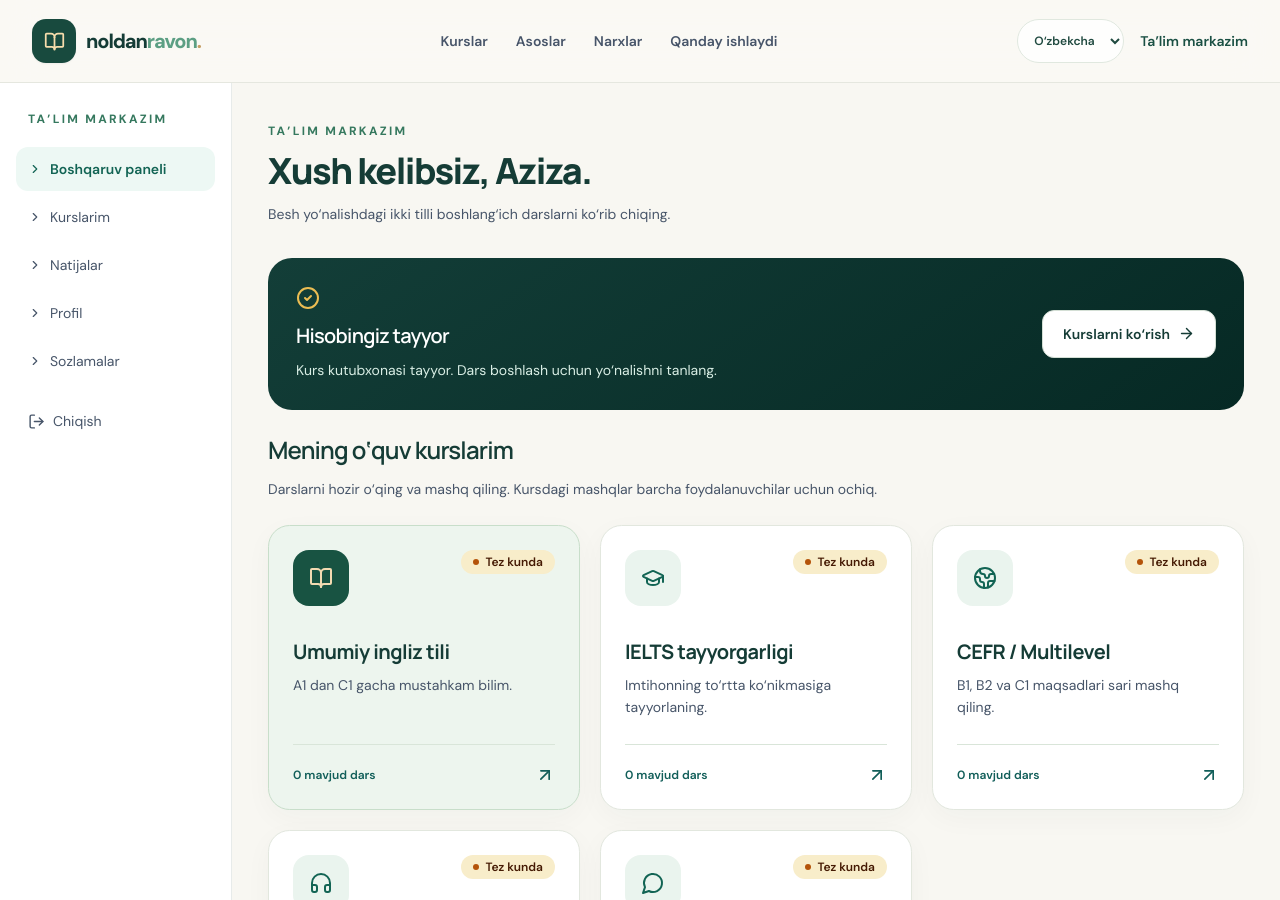
it: shows an explicit warning after browser-only sign out when MongoDB revocation fails
Click the button "Chiqish" at (65, 421), box [16, 399, 114, 443]
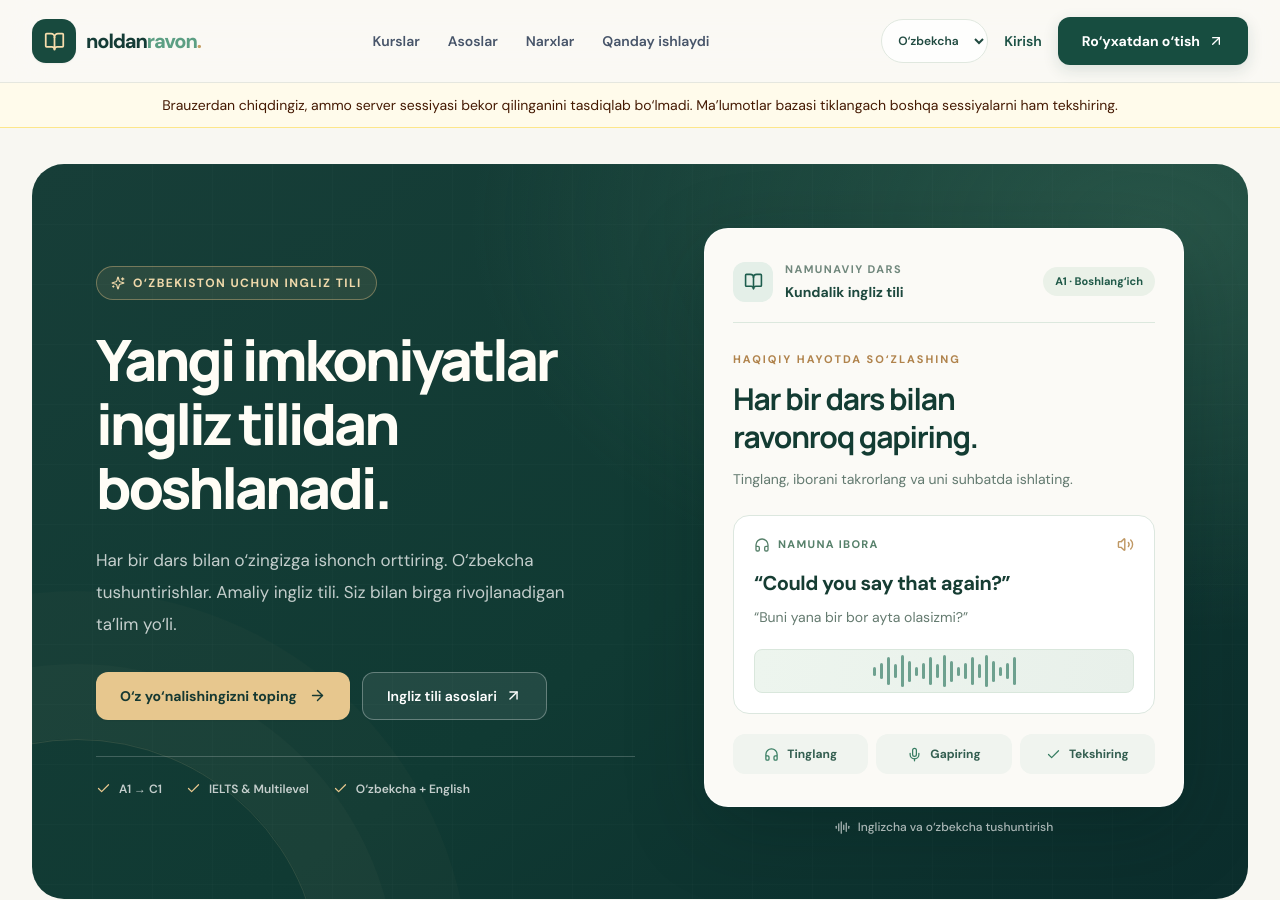
expect the message shows "server sessiyasi bekor qilinganini": met, box [162, 96, 1118, 114]
expect the heading "Yangi imkoniyatlar ingliz tilidan boshlanadi." is shown: met, box [96, 328, 635, 520]
